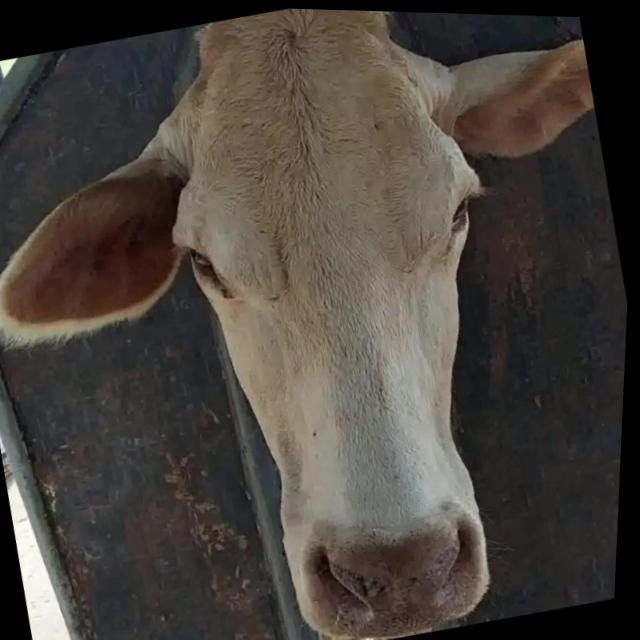cowFace: (118, 3, 563, 640)
